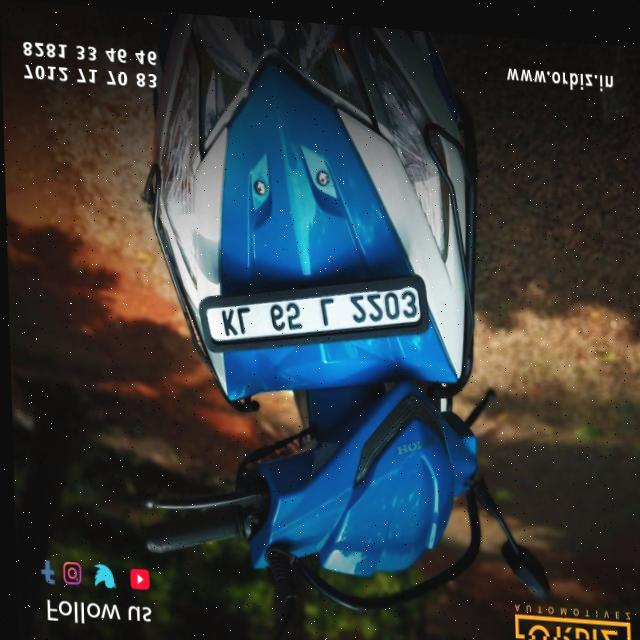plate: (191, 255, 433, 362)
